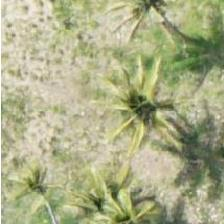coconut_tree: (98, 61, 188, 151), (53, 152, 143, 223), (106, 0, 196, 48), (81, 175, 171, 223)
